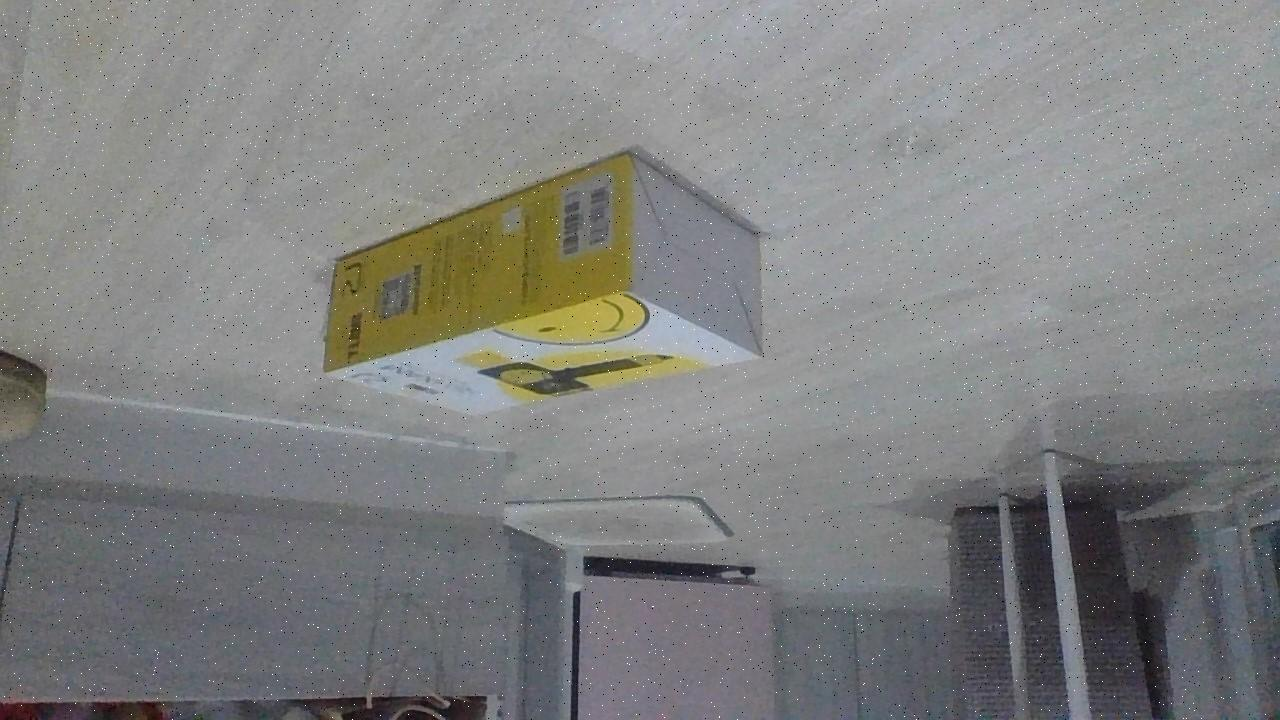Dryer: (319, 150, 769, 422)
